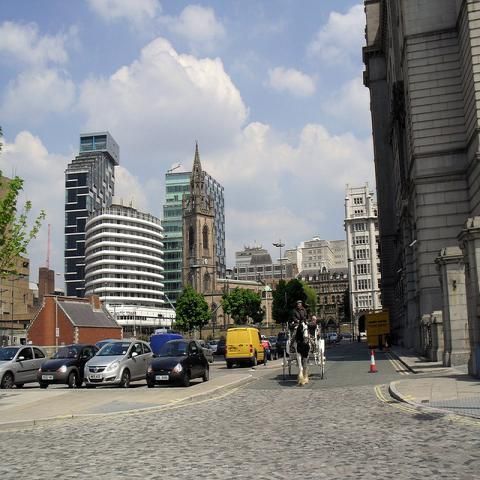car: (82, 342, 154, 387), (147, 340, 210, 388), (36, 344, 100, 389), (2, 348, 47, 388), (263, 340, 279, 360), (216, 340, 227, 356), (209, 340, 220, 352), (329, 334, 339, 344), (341, 332, 353, 339), (269, 336, 276, 346)
truck: (226, 328, 268, 372)
